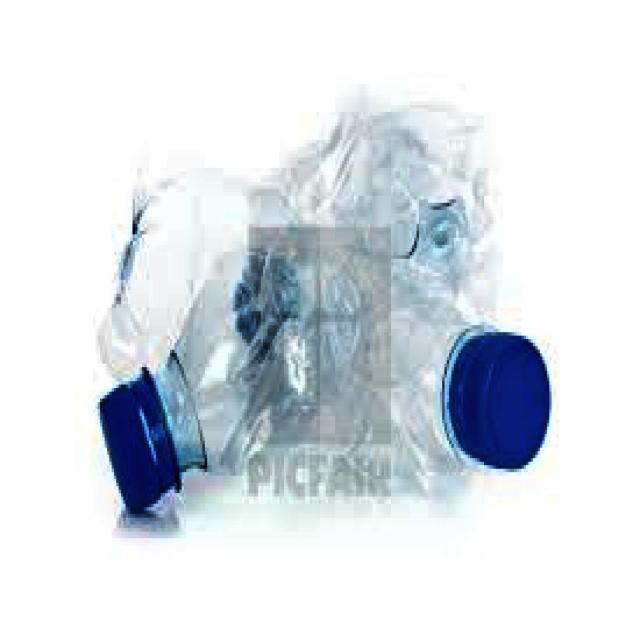BIODEGRADABLE: (314, 73, 565, 518), (90, 82, 320, 538)
